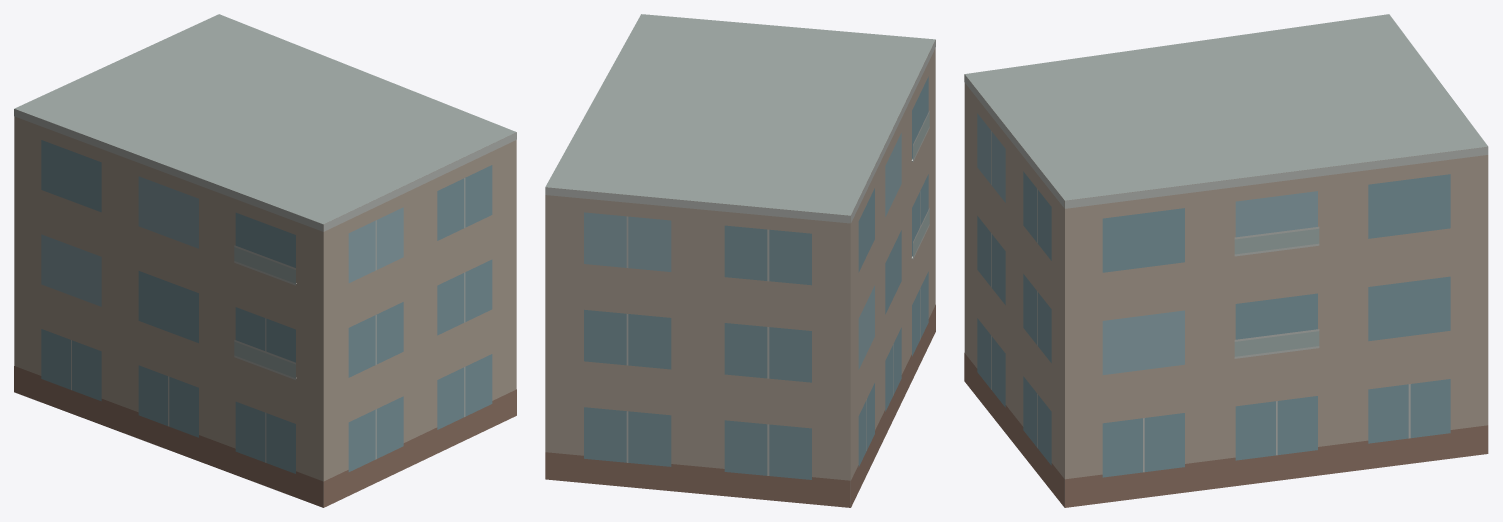
The model's file is survey-upis-32621913.glb.
3 views of the same model, side by side, from view 1: azimuth 30°, elevation 25°; view 2: azimuth 150°, elevation 25°; view 3: azimuth 270°, elevation 25° (orthographic). The views are drawn at different scales.
Visible parts, largest first — view 1: survey-upis-32621913.tmp; view 2: survey-upis-32621913.tmp; view 3: survey-upis-32621913.tmp.
Boxes of the visible parts, left/top/right/bottom form: survey-upis-32621913.tmp: left=14, top=14, right=516, bottom=507; survey-upis-32621913.tmp: left=545, top=14, right=935, bottom=507; survey-upis-32621913.tmp: left=964, top=14, right=1488, bottom=507.
Size of the model in its own units: 11.94 by 9.15 by 14.15.
